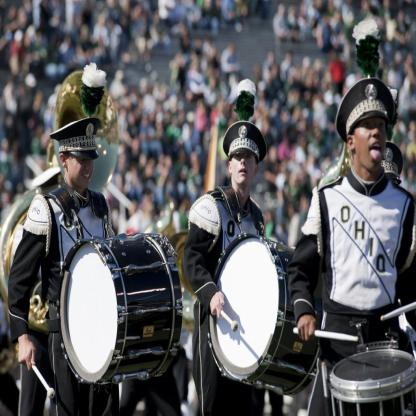face: (355, 109, 389, 171), (68, 146, 95, 189), (232, 146, 258, 186)
